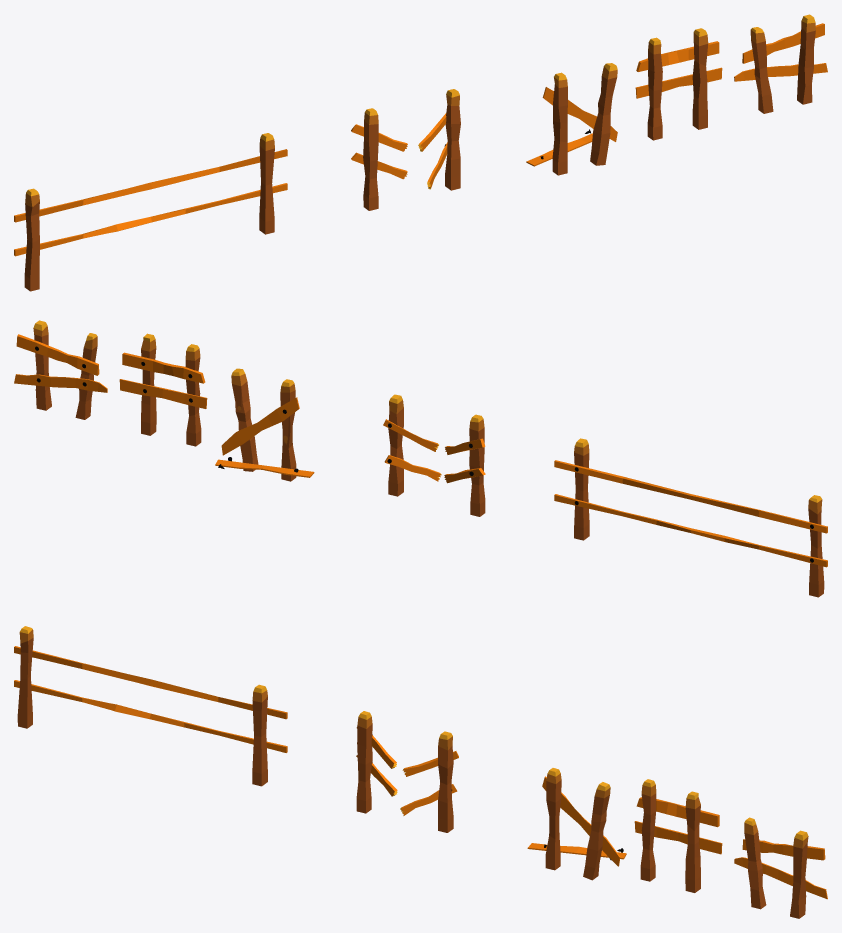
The model's file is uploads_files_3993739_fence.fbx.
The picture shows the model from 3 angles, top to bottom: view 1: azimuth 30°, elevation 25°; view 2: azimuth 150°, elevation 25°; view 3: azimuth 330°, elevation 25°; orthographic projection.
Visible parts, largest first — view 1: Куб.006, Куб.003, Cube.006, Куб, Cube.014, Cube.013; view 2: Куб.006, Куб.003, Cube.006, Куб, Cube.013, Cube.014; view 3: Куб.006, Куб.003, Cube.006, Куб, Cube.013, Cube.014.
Boxes of the visible parts, x1=… form: Куб.006: x1=14, y1=133, x2=287, y2=291; Куб.003: x1=635, y1=28, x2=722, y2=140; Cube.006: x1=526, y1=63, x2=617, y2=175; Куб: x1=734, y1=14, x2=827, y2=113; Cube.014: x1=351, y1=108, x2=407, y2=210; Cube.013: x1=418, y1=89, x2=460, y2=190; Куб.006: x1=554, y1=438, x2=827, y2=597; Куб.003: x1=119, y1=333, x2=207, y2=446; Cube.006: x1=215, y1=368, x2=314, y2=481; Куб: x1=14, y1=320, x2=107, y2=419; Cube.013: x1=383, y1=394, x2=441, y2=496; Cube.014: x1=444, y1=414, x2=485, y2=516; Куб.006: x1=14, y1=626, x2=287, y2=786; Куб.003: x1=634, y1=779, x2=722, y2=892; Cube.006: x1=527, y1=768, x2=626, y2=880; Куб: x1=734, y1=817, x2=827, y2=918; Cube.013: x1=400, y1=731, x2=458, y2=832; Cube.014: x1=356, y1=711, x2=397, y2=813.
Bounding box in the file's own units: 1098 × 143 × 74.12.
